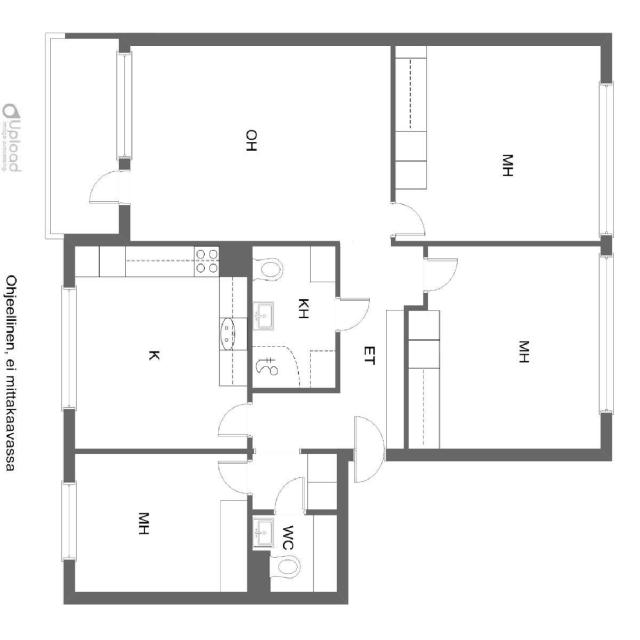door: (348, 410, 390, 488), (80, 162, 136, 214), (210, 397, 257, 444), (416, 248, 462, 295), (383, 197, 431, 239), (268, 472, 311, 518), (212, 453, 255, 498), (332, 290, 374, 335)
window: (586, 250, 623, 416), (586, 81, 623, 235), (51, 282, 84, 413), (108, 43, 142, 170), (54, 474, 83, 568)
zone: (124, 45, 400, 244), (404, 240, 611, 457), (392, 39, 607, 243), (66, 252, 244, 456), (66, 449, 250, 598), (250, 244, 338, 389), (246, 510, 340, 596), (249, 391, 348, 452)
